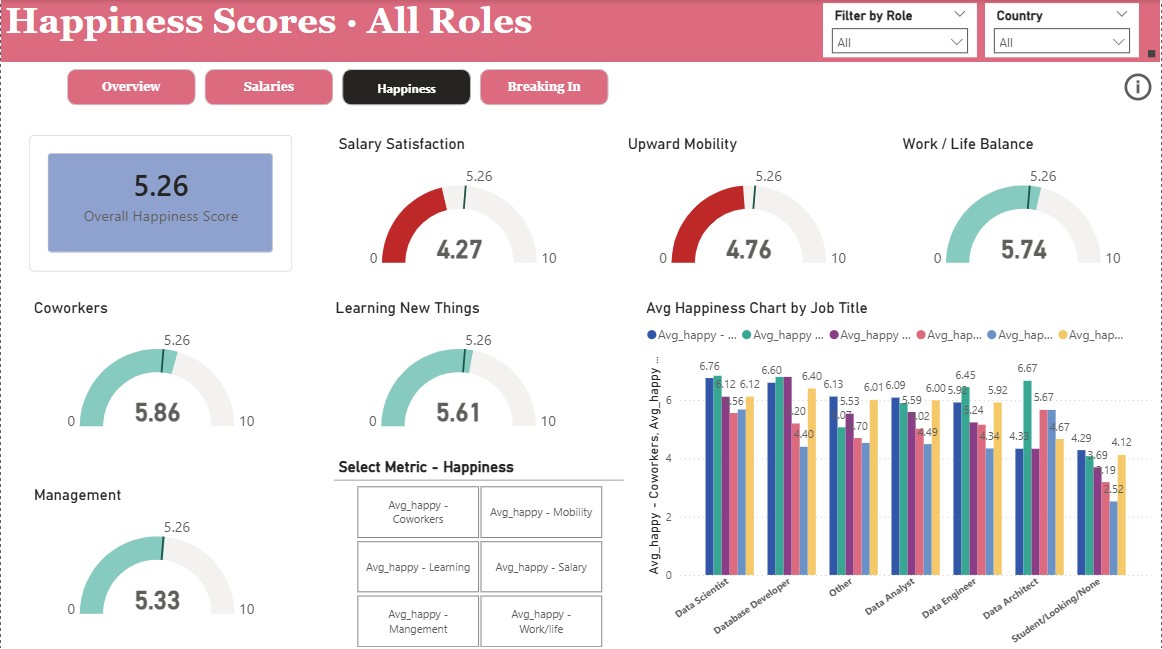

What the dashboard file says about the page in this screenshot:
{"tool":"powerbi","page":{"name":"Happiness","canvas":[1280,720],"ordinal":2},"visuals":[{"type":"textbox","box":[0,0,1279.4,68],"z":0},{"type":"slicer","fields":{"Values":["Data Professional Survey.Country"]},"box":[1086.9,3.8,170,60],"z":1000},{"type":"slicer","fields":{"Values":["Data Professional Survey.Job Title"]},"box":[907.7,3.8,170,60],"z":2000},{"type":"pageNavigator","box":[72.3,75.4,600,40],"z":3000},{"type":"cardVisual","fields":{"Data":["_Measures (2).Overall Happiness"]},"box":[31.5,149.1,289.9,150.7],"z":4000},{"type":"gauge","title":"Salary Satisfaction","fields":{"Y":["_Measures (2).Avg_happy_sal"],"MaxValue":["Max(Data Professional Survey.Happy - Salary)"],"MinValue":["Min(Data Professional Survey.Happy - Salary)1"],"TargetValue":["_Measures (2).Overall Happiness"]},"box":[367.7,149.1,284.9,150.7],"z":5000},{"type":"gauge","title":"Coworkers","fields":{"Y":["_Measures (2).Avg_happy_coworkers"],"MinValue":["Min(Data Professional Survey.Happy - Coworkers)"],"MaxValue":["Max(Data Professional Survey.Happy - Coworkers)1"],"TargetValue":["_Measures (2).Overall Happiness"]},"box":[31.5,329.6,289.9,150.7],"z":6000},{"type":"gauge","title":"Learning New Things","fields":{"Y":["_Measures (2).Avg_happy_learning"],"MinValue":["Min(Data Professional Survey.Happy - Learning)"],"MaxValue":["Max(Data Professional Survey.Happy - Learning)1"],"TargetValue":["_Measures (2).Overall Happiness"]},"box":[364.4,329.6,289.9,150.7],"z":7000},{"type":"gauge","title":"Management","fields":{"Y":["_Measures (2).Avg_happy_mangement"],"MinValue":["Min(Data Professional Survey.Happy - Management)"],"MaxValue":["Max(Data Professional Survey.Happy - Management)1"],"TargetValue":["_Measures (2).Overall Happiness"]},"box":[31.5,536.7,289.9,150.7],"z":8000},{"type":"gauge","title":"Upward Mobility","fields":{"Y":["_Measures (2).Avg_happy_mobility"],"MinValue":["Min(Data Professional Survey.Happy - Upward Mobility)"],"MaxValue":["Max(Data Professional Survey.Happy - Upward Mobility)1"],"TargetValue":["_Measures (2).Overall Happiness"]},"box":[687.4,149.1,284.9,150.7],"z":9000},{"type":"gauge","title":"Work / Life Balance","fields":{"Y":["_Measures (2).Avg_happy_wl"],"MinValue":["Min(Data Professional Survey.Happy - Work Life)"],"MaxValue":["Max(Data Professional Survey.Happy - Work Life)1"],"TargetValue":["_Measures (2).Overall Happiness"]},"box":[990.6,149.1,284.9,150.7],"z":10000},{"type":"slicer","title":"Select Metric - Happiness","fields":{"Values":["Happiness Metric.Happiness Metric"]},"box":[367.7,505.2,319.7,215.3],"z":11000},{"type":"clusteredColumnChart","title":"Avg Happiness Chart by Job Title","fields":{"Y":["_Measures (2).Avg_happy_coworkers","_Measures (2).Avg_happy_learning","_Measures (2).Avg_happy_mangement","_Measures (2).Avg_happy_mobility","_Measures (2).Avg_happy_sal","_Measures (2).Avg_happy_wl"],"Category":["Data Professional Survey.Job Title"]},"box":[707.3,329.6,568.2,390.9],"z":12000},{"type":"actionButton","title":"Data professionals report the lowest satisfaction with salary (4.27/10) and highest satisfaction with coworkers (5.86/10)","box":[1235.7,76.2,39.8,39.8],"z":13000}]}

Visuals, with their boxes in screenshot pixels (x1, y1, x2, y2), scaled from the page's 1280x720 canvas onto the 1162x649 screenshot:
textbox: 0 0 1161 61
slicer - Data Professional Survey.Country: 987 3 1141 58
slicer - Data Professional Survey.Job Title: 824 3 978 58
pageNavigator: 66 68 610 104
cardVisual - _Measures (2).Overall Happiness: 29 134 292 270
"Salary Satisfaction" gauge: 334 134 592 270
"Coworkers" gauge: 29 297 292 433
"Learning New Things" gauge: 331 297 594 433
"Management" gauge: 29 484 292 620
"Upward Mobility" gauge: 624 134 883 270
"Work / Life Balance" gauge: 899 134 1158 270
"Select Metric - Happiness" slicer: 334 455 624 648
"Avg Happiness Chart by Job Title" clusteredColumnChart: 642 297 1158 648
"Data professionals report the lowest satisfaction with salary (4.27/10) and highest satisfaction with coworkers (5.86/10)" actionButton: 1122 69 1158 105
